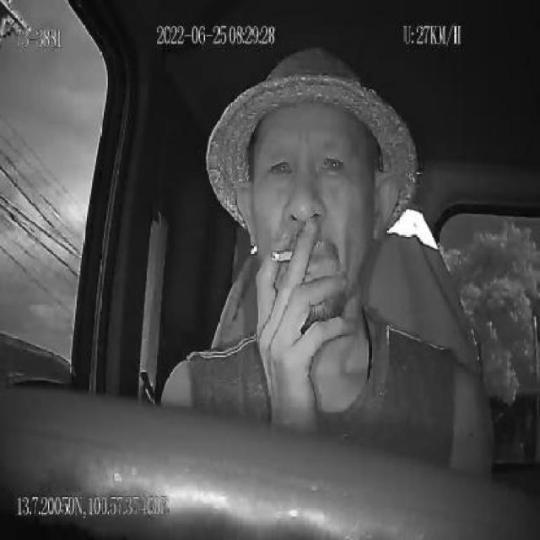smoking: (270, 245, 294, 266)
